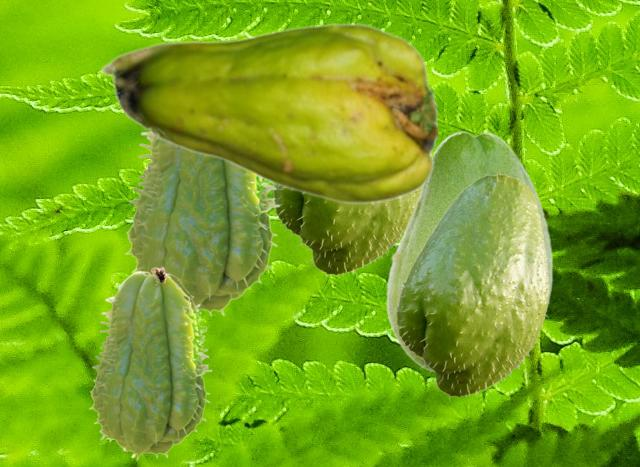sayote: (99, 22, 436, 204), (385, 130, 552, 370), (391, 173, 550, 399), (124, 131, 279, 317), (88, 266, 211, 460), (269, 186, 419, 277)
